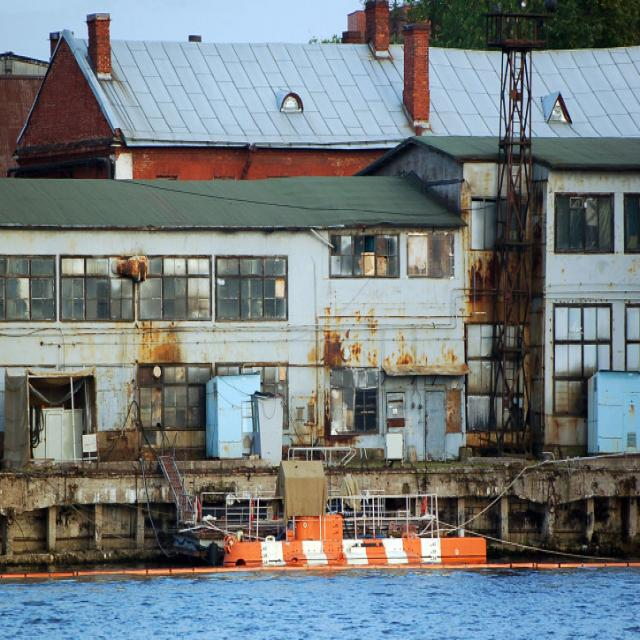submarine: (224, 517, 489, 564)
